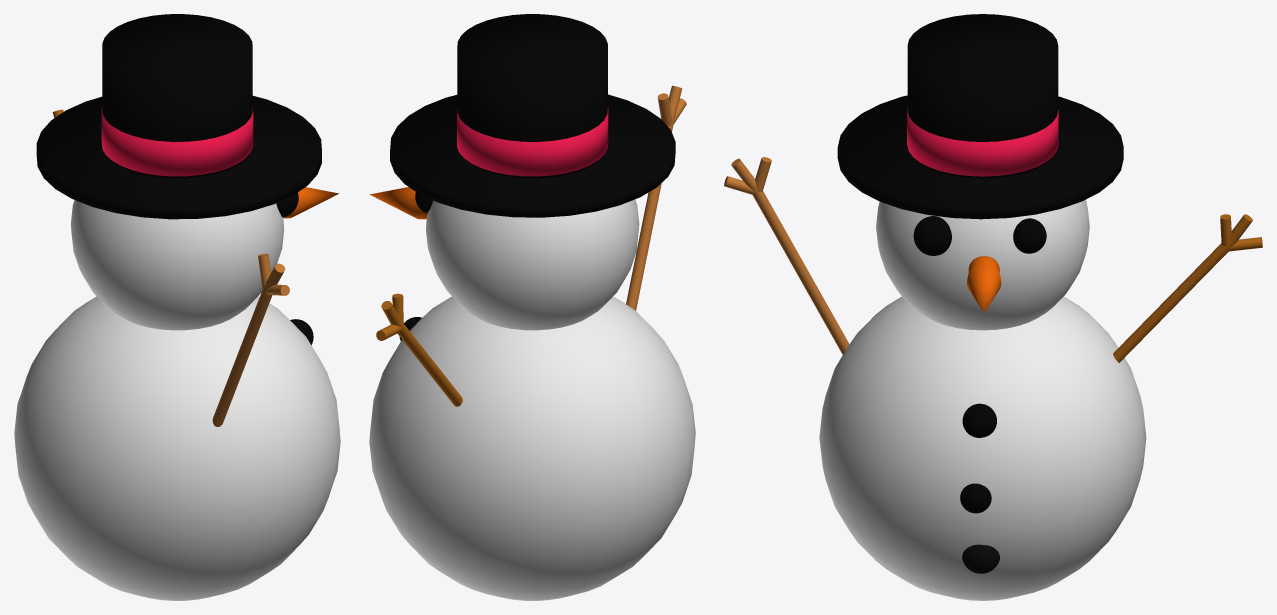
File: snow_man.fbx
The picture shows the model from 3 angles, left to right: view 1: azimuth 30°, elevation 25°; view 2: azimuth 150°, elevation 25°; view 3: azimuth 270°, elevation 25°; orthographic projection.
Parts seen in each view (by area): view 1: Sphere.001; view 2: Sphere.001; view 3: Sphere.001.
Part boxes in pixels (x1,y1,x2,y2): Sphere.001: [14, 14, 340, 600]; Sphere.001: [369, 14, 695, 600]; Sphere.001: [724, 14, 1262, 600].
Bounding box in the file's own units: 329 × 557 × 504.
